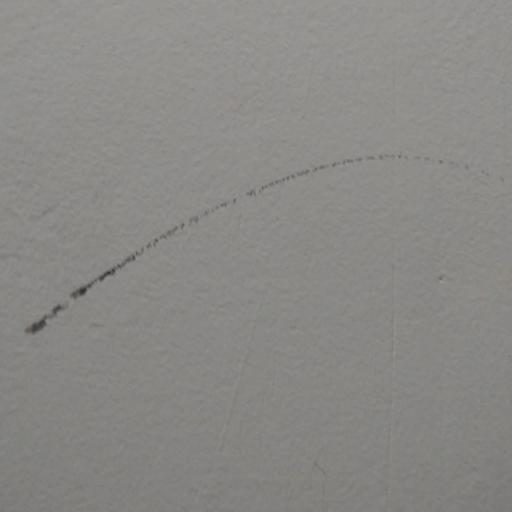stain: (27, 140, 503, 334)
